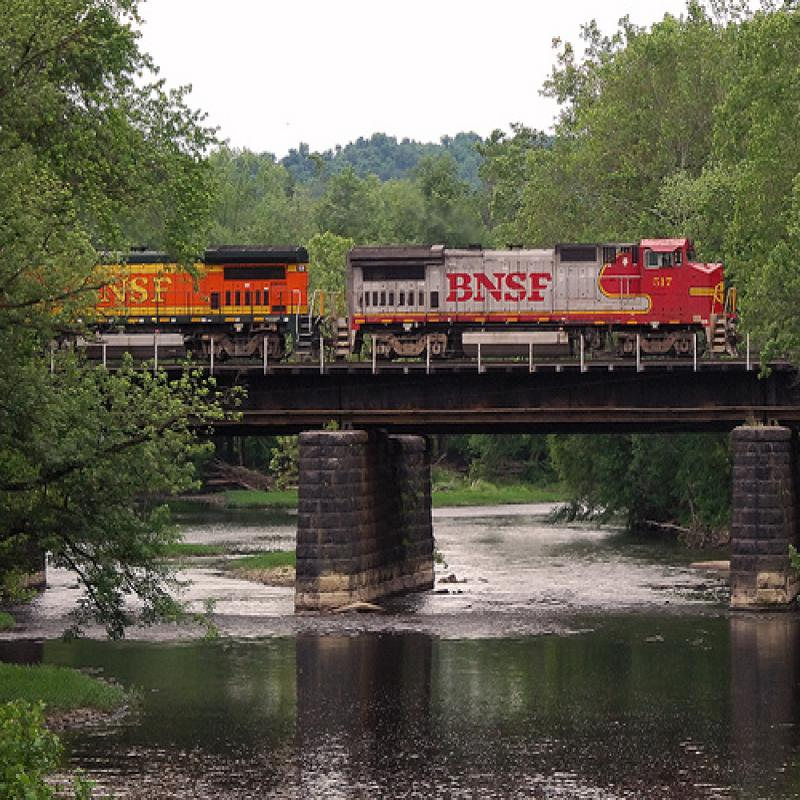train: (25, 238, 747, 363)
